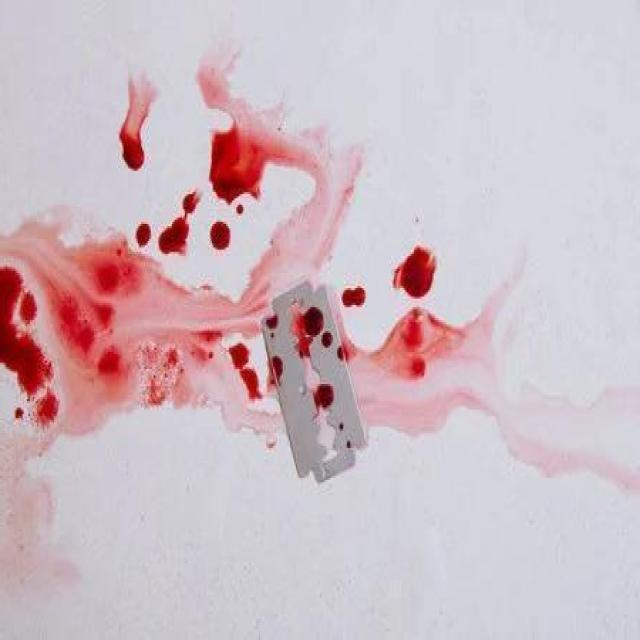flood: (0, 56, 466, 423)
